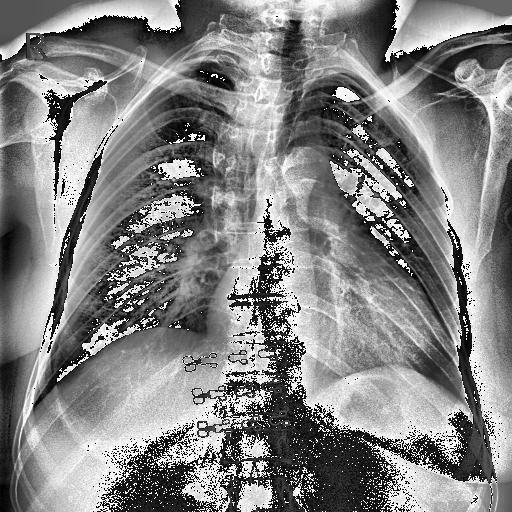0- Aortic enlargement: (272, 148, 338, 195)
11- Pleural thickening: (176, 48, 247, 66), (314, 66, 353, 74)
3- Cardiomegaly: (212, 260, 448, 375), (208, 290, 446, 384), (206, 287, 444, 376)
9- Other lesion: (214, 42, 304, 324)
